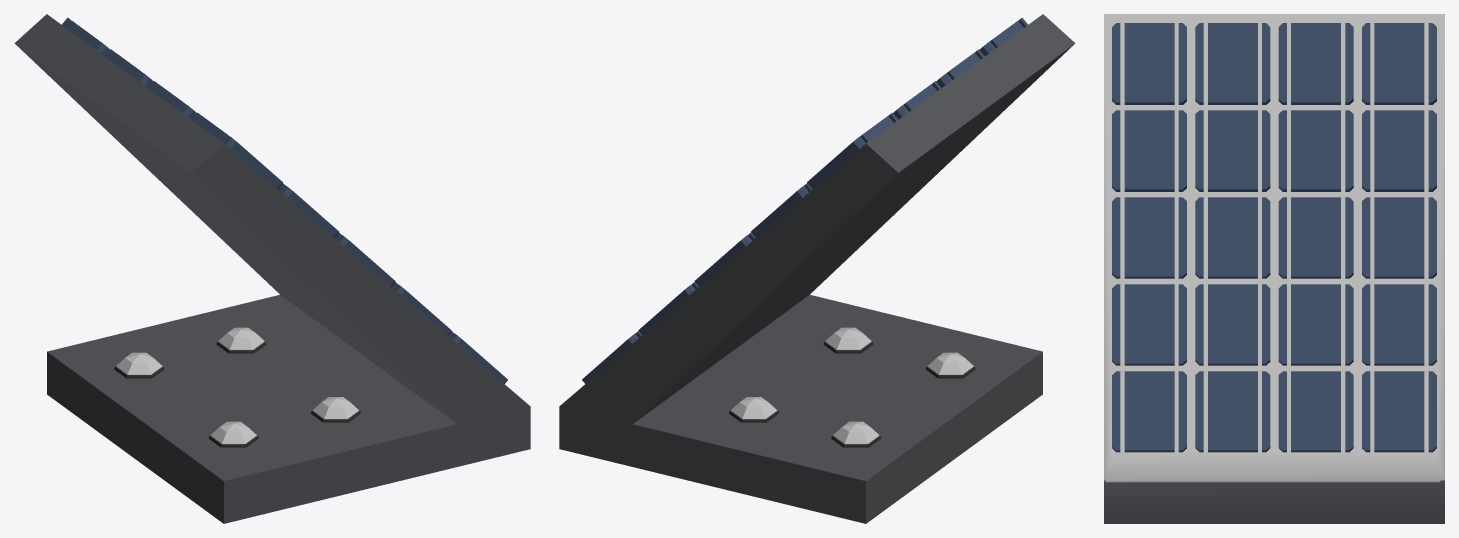
File: solar_battery.gltf
3 views of the same model, side by side, from view 1: azimuth 30°, elevation 25°; view 2: azimuth 150°, elevation 25°; view 3: azimuth 270°, elevation 25° (orthographic). The views are drawn at different scales.
Visible parts, largest first — view 1: node-0; view 2: node-0; view 3: node-0.
Boxes of the visible parts, x1,y1,x2,y2 form: node-0: (14, 14, 530, 523); node-0: (559, 14, 1075, 523); node-0: (1104, 14, 1444, 523).
Bounding box in the file's own units: 597 × 640 × 540.
Materials: 1 (1 with a texture image).
